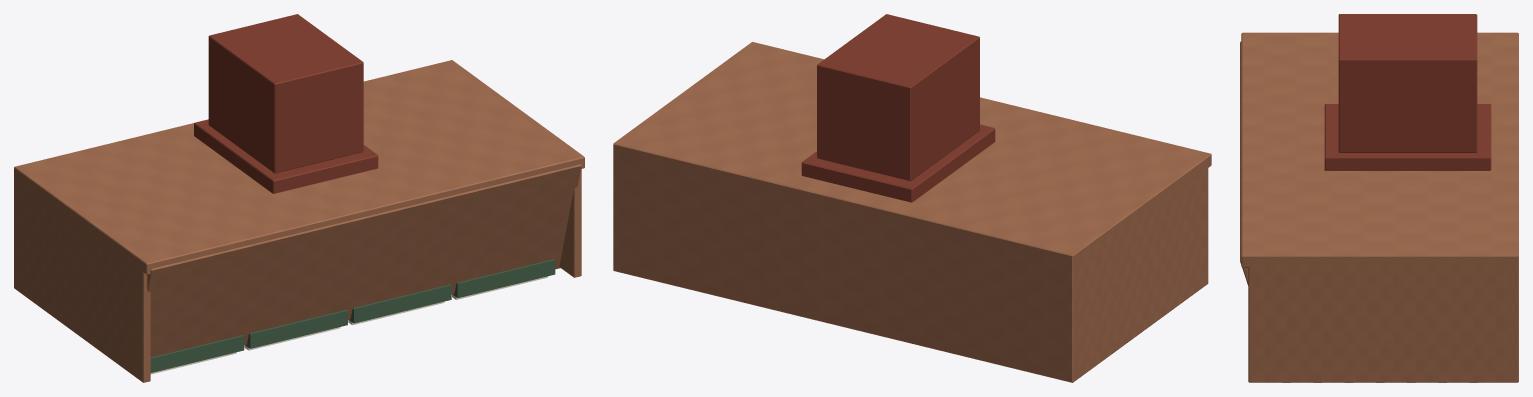
Rendered from s02-hawker-stall-exhaust-hood-balanced.glb.
3 views of the same model, side by side, from view 1: azimuth 30°, elevation 25°; view 2: azimuth 150°, elevation 25°; view 3: azimuth 270°, elevation 25° (orthographic). The views are drawn at different scales.
Visible parts, largest first — view 1: Copper canopy, Exhaust collar, Removable filter banks; view 2: Copper canopy, Exhaust collar; view 3: Copper canopy, Exhaust collar.
Part boxes in pixels (bbox=[...]): Copper canopy: bbox=[14, 60, 584, 382]; Exhaust collar: bbox=[194, 14, 378, 193]; Removable filter banks: bbox=[150, 259, 555, 374]; Copper canopy: bbox=[613, 42, 1211, 382]; Exhaust collar: bbox=[801, 14, 995, 202]; Copper canopy: bbox=[1240, 32, 1518, 382]; Exhaust collar: bbox=[1324, 14, 1491, 170].
Size of the model in its own units: 2.65 by 1.35 by 1.4.
Materials: 1 (1 with a texture image).
